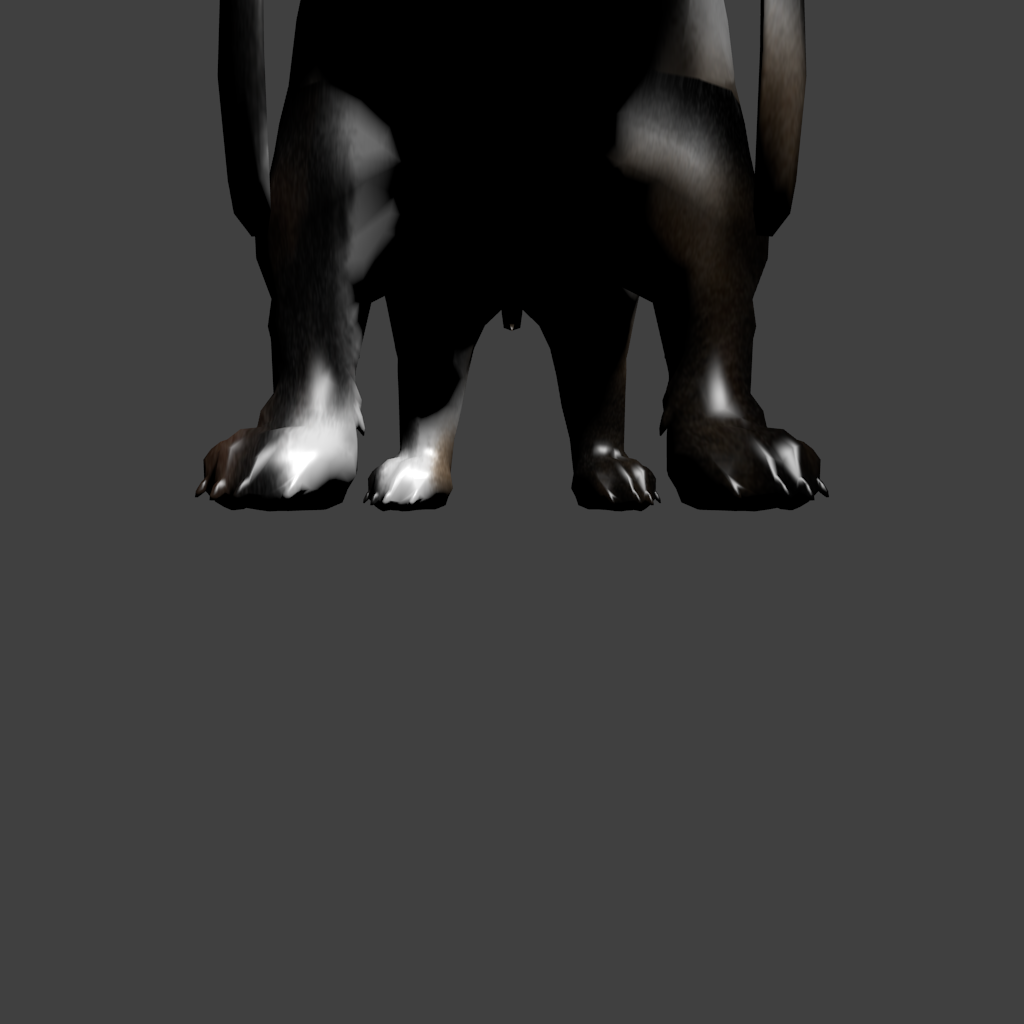Dog: (195, 0, 634, 512)
